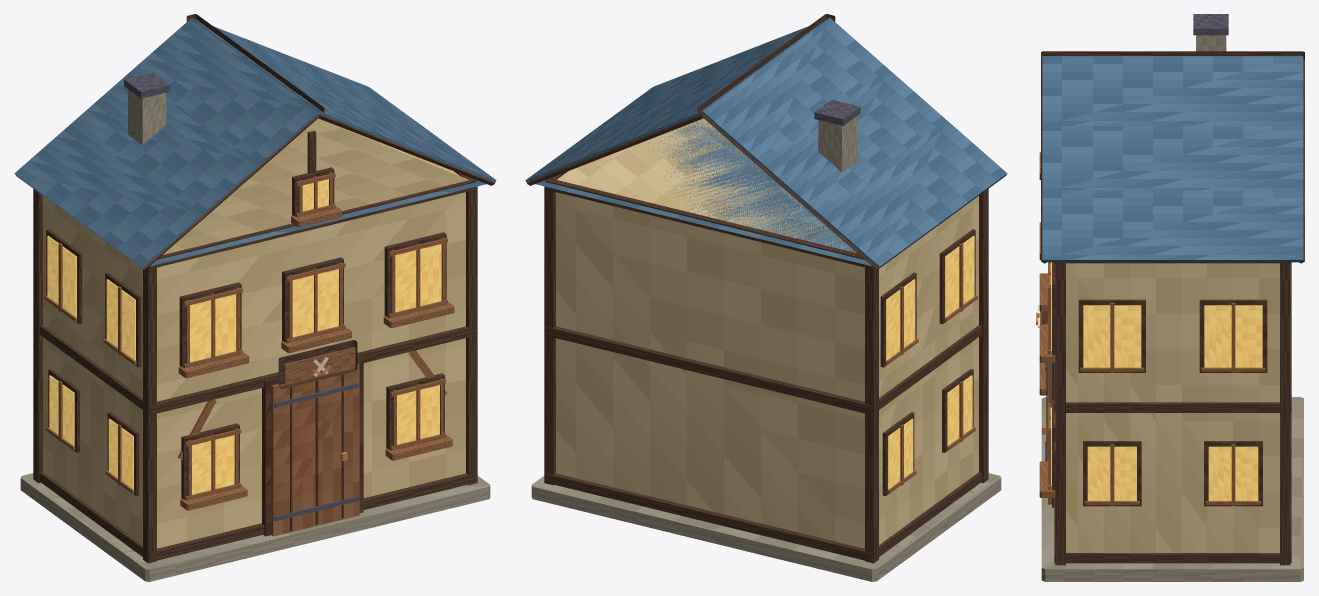
Rendered from Loge_Des_Heros.glb.
The picture shows the model from 3 angles, left to right: view 1: azimuth 30°, elevation 25°; view 2: azimuth 150°, elevation 25°; view 3: azimuth 270°, elevation 25°; orthographic projection. The views are drawn at different scales.
Parts seen in each view (by area): view 1: Structure; view 2: Structure; view 3: Structure.
Part boxes in pixels (box(x1,y1,x2,y2)): Structure: box(14, 14, 496, 581); Structure: box(525, 14, 1007, 581); Structure: box(1036, 14, 1304, 581).
Bounding box in the file's own units: 7.19 × 8.36 × 4.61.
Materials: 2 (2 with a texture image).
